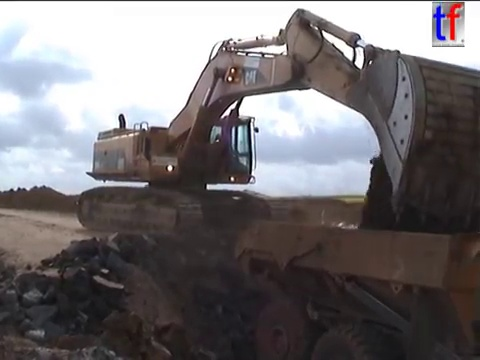excavator: (73, 6, 479, 243)
truck: (229, 201, 480, 360)
